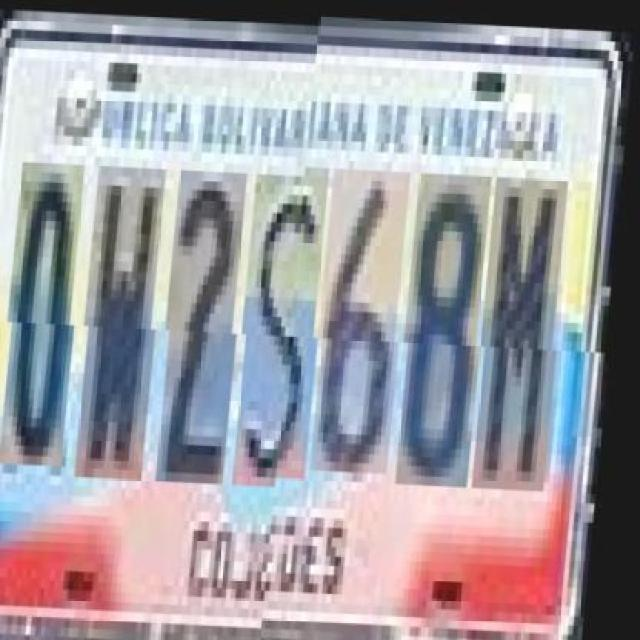2: (164, 168, 256, 482)
6: (318, 174, 418, 478)
8: (403, 178, 499, 492)
m: (480, 180, 575, 494)
o: (9, 162, 93, 466)
s: (241, 172, 337, 486)
w: (84, 164, 174, 478)
